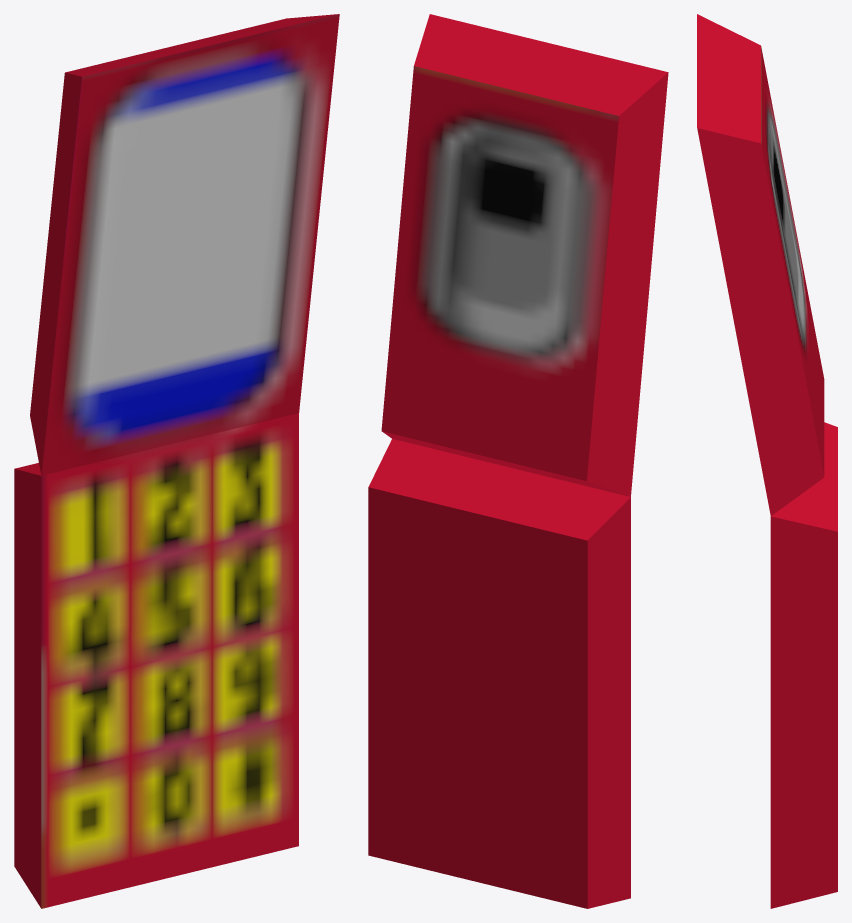
Rendered from FlipPhone.fbx.
The picture shows the model from 3 angles, left to right: view 1: azimuth 30°, elevation 25°; view 2: azimuth 150°, elevation 25°; view 3: azimuth 270°, elevation 25°; orthographic projection. The views are drawn at different scales.
Parts seen in each view (by area): view 1: Maya_File_Assets:TexturedAssetsCurrent:JohnPepper02Assets:Fl; view 2: Maya_File_Assets:TexturedAssetsCurrent:JohnPepper02Assets:Fl; view 3: Maya_File_Assets:TexturedAssetsCurrent:JohnPepper02Assets:Fl.
Boxes of the visible parts, x1,y1,x2,y2 form: Maya_File_Assets:TexturedAssetsCurrent:JohnPepper02Assets:Fl: (14, 14, 339, 908); Maya_File_Assets:TexturedAssetsCurrent:JohnPepper02Assets:Fl: (368, 14, 668, 908); Maya_File_Assets:TexturedAssetsCurrent:JohnPepper02Assets:Fl: (697, 14, 837, 908).
Bounding box in the file's own units: 0.0618 × 0.1976 × 0.0323.
